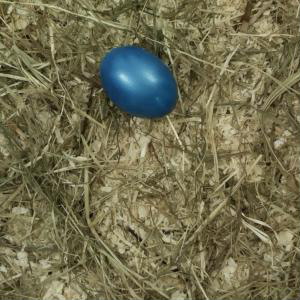egg: (99, 44, 178, 119)
